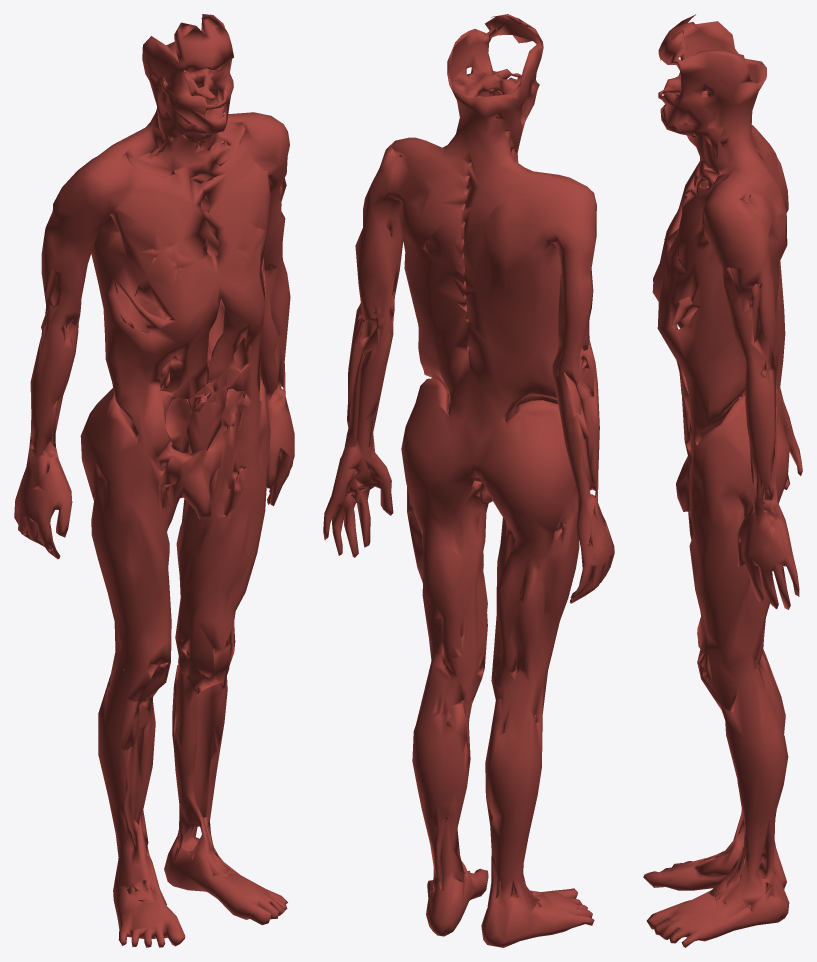
Rendered from icrp_adult_male.muscular.LOD3.glb.
The picture shows the model from 3 angles, left to right: view 1: azimuth 30°, elevation 25°; view 2: azimuth 150°, elevation 25°; view 3: azimuth 270°, elevation 25°; orthographic projection.
Visible parts, largest first — view 1: ICRP.ADULT.MALE.MUSCULAR.MUSCLE; view 2: ICRP.ADULT.MALE.MUSCULAR.MUSCLE; view 3: ICRP.ADULT.MALE.MUSCULAR.MUSCLE.
Part boxes in pixels (x1,y1,x2,y2): ICRP.ADULT.MALE.MUSCULAR.MUSCLE: [14, 14, 294, 947]; ICRP.ADULT.MALE.MUSCULAR.MUSCLE: [323, 14, 614, 947]; ICRP.ADULT.MALE.MUSCULAR.MUSCLE: [643, 14, 802, 947].
Bounding box in the file's own units: 0.5476 × 1.75 × 0.2839.
